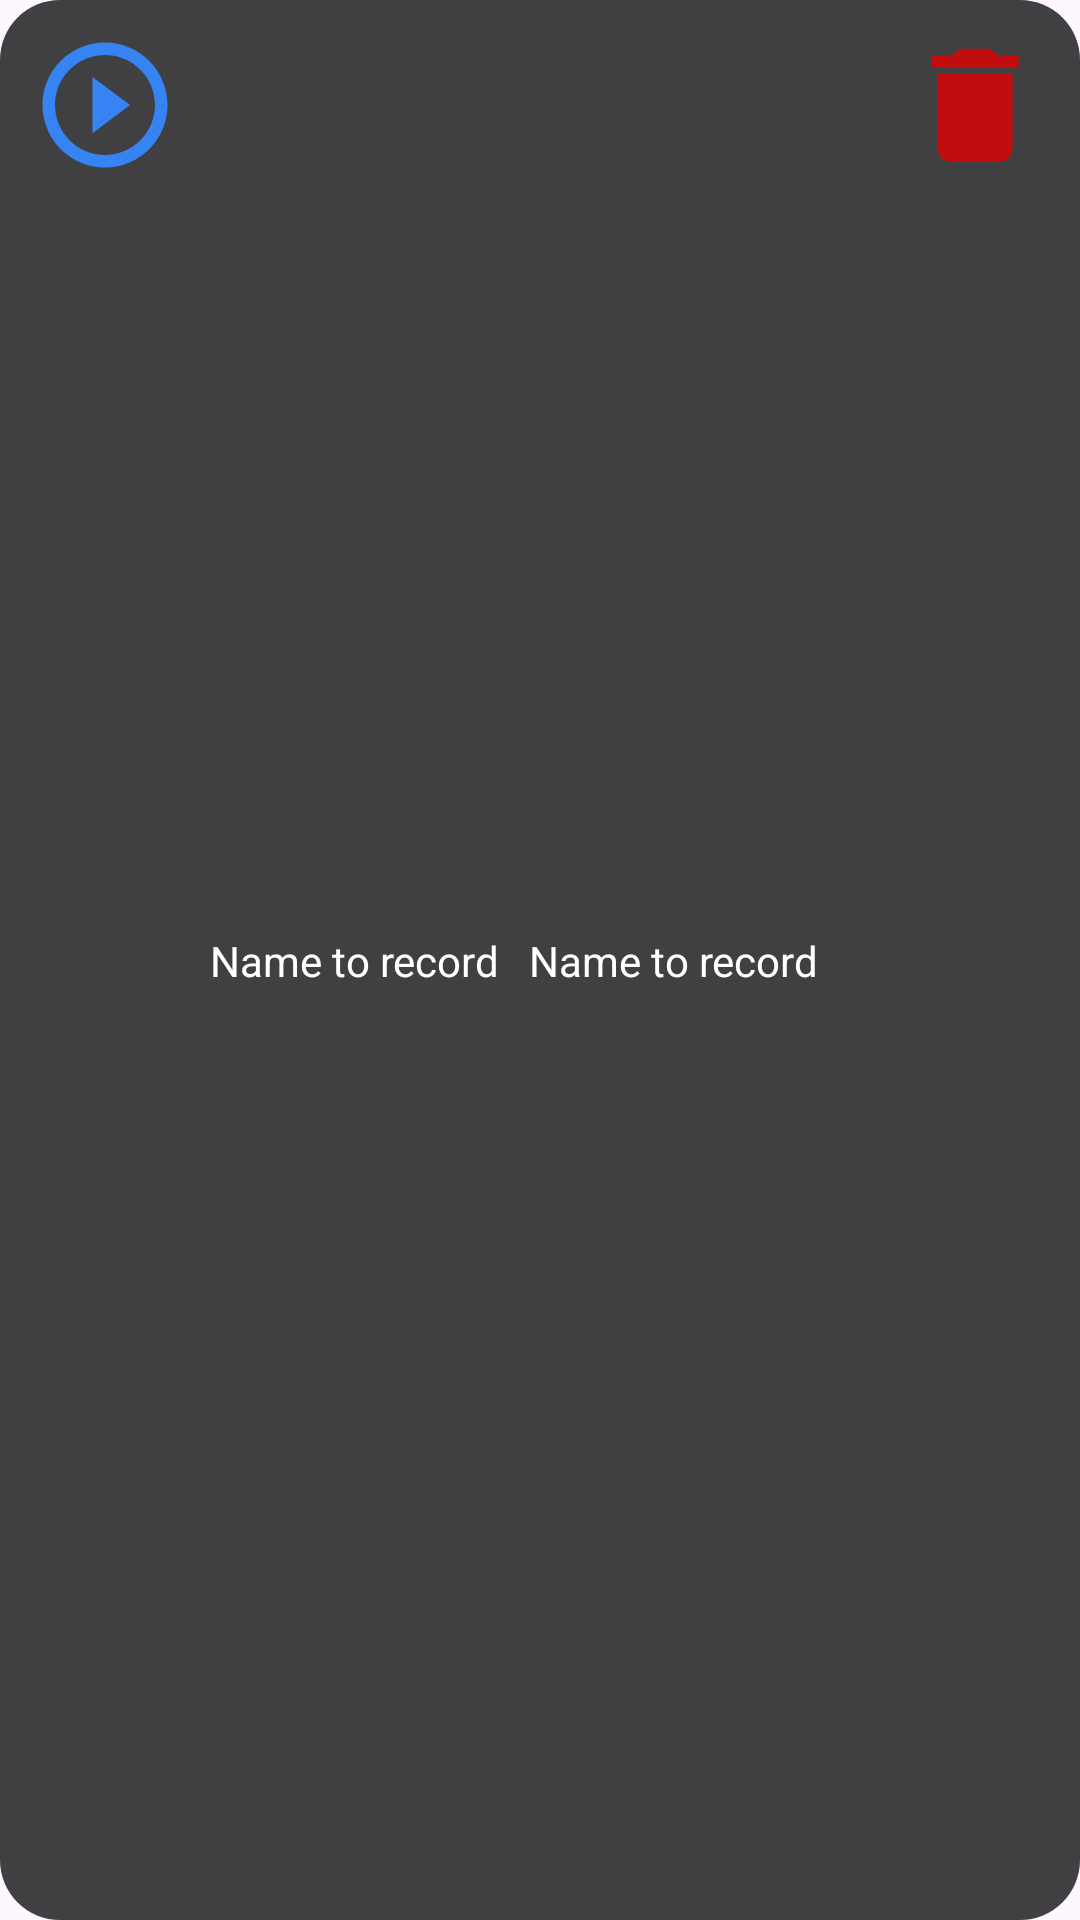

Icons on this 1080w x 1920h Android screen, each with the point to tap as point (x, y):
delete: point (975, 105)
play circle: point (105, 105)
